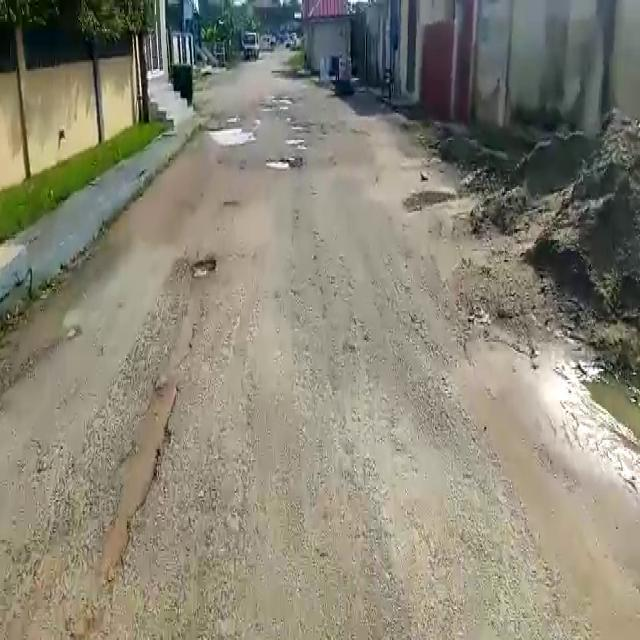pothole: (208, 127, 256, 148), (190, 253, 224, 281), (264, 154, 298, 169)
